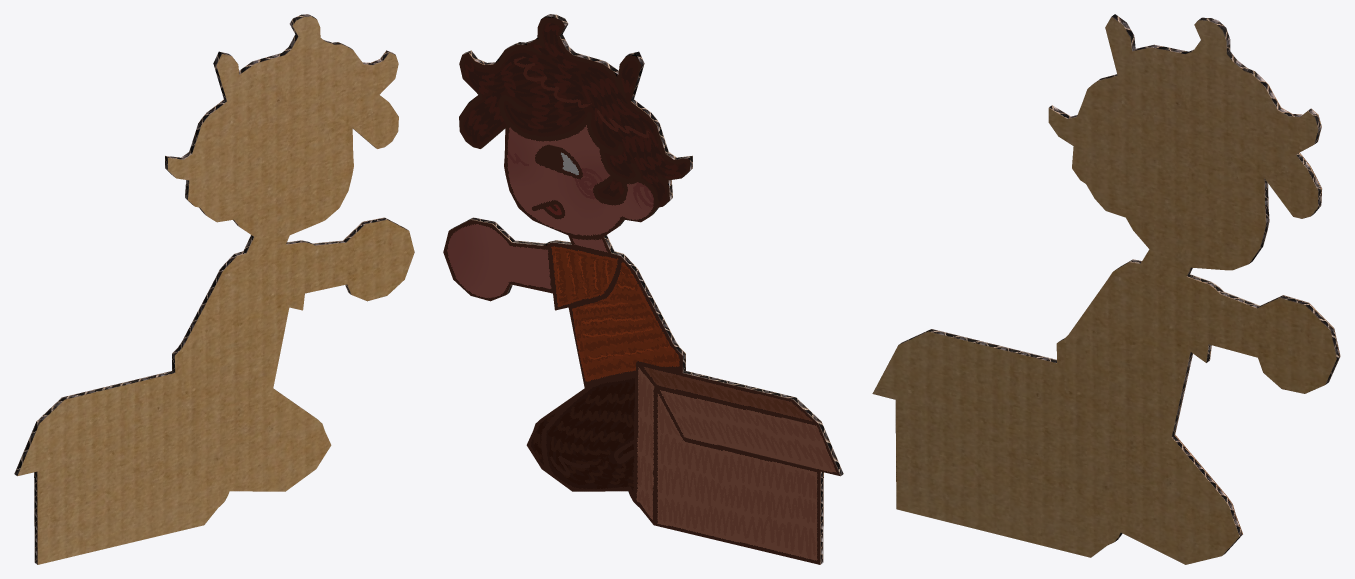
File: NIÑO EXPLOTADO.glb
The picture shows the model from 3 angles, left to right: view 1: azimuth 30°, elevation 25°; view 2: azimuth 150°, elevation 25°; view 3: azimuth 330°, elevation 25°; orthographic projection. The views are drawn at different scales.
Visible parts, largest first — view 1: NIÑO EXPLOTADO; view 2: NIÑO EXPLOTADO; view 3: NIÑO EXPLOTADO.
Boxes of the visible parts, <box> form: NIÑO EXPLOTADO: <box>14,14,414,564</box>; NIÑO EXPLOTADO: <box>443,14,843,564</box>; NIÑO EXPLOTADO: <box>872,14,1340,564</box>.
Size of the model in its own units: 7.36 by 8.57 by 0.0991.
Materials: 1 (1 with a texture image).
